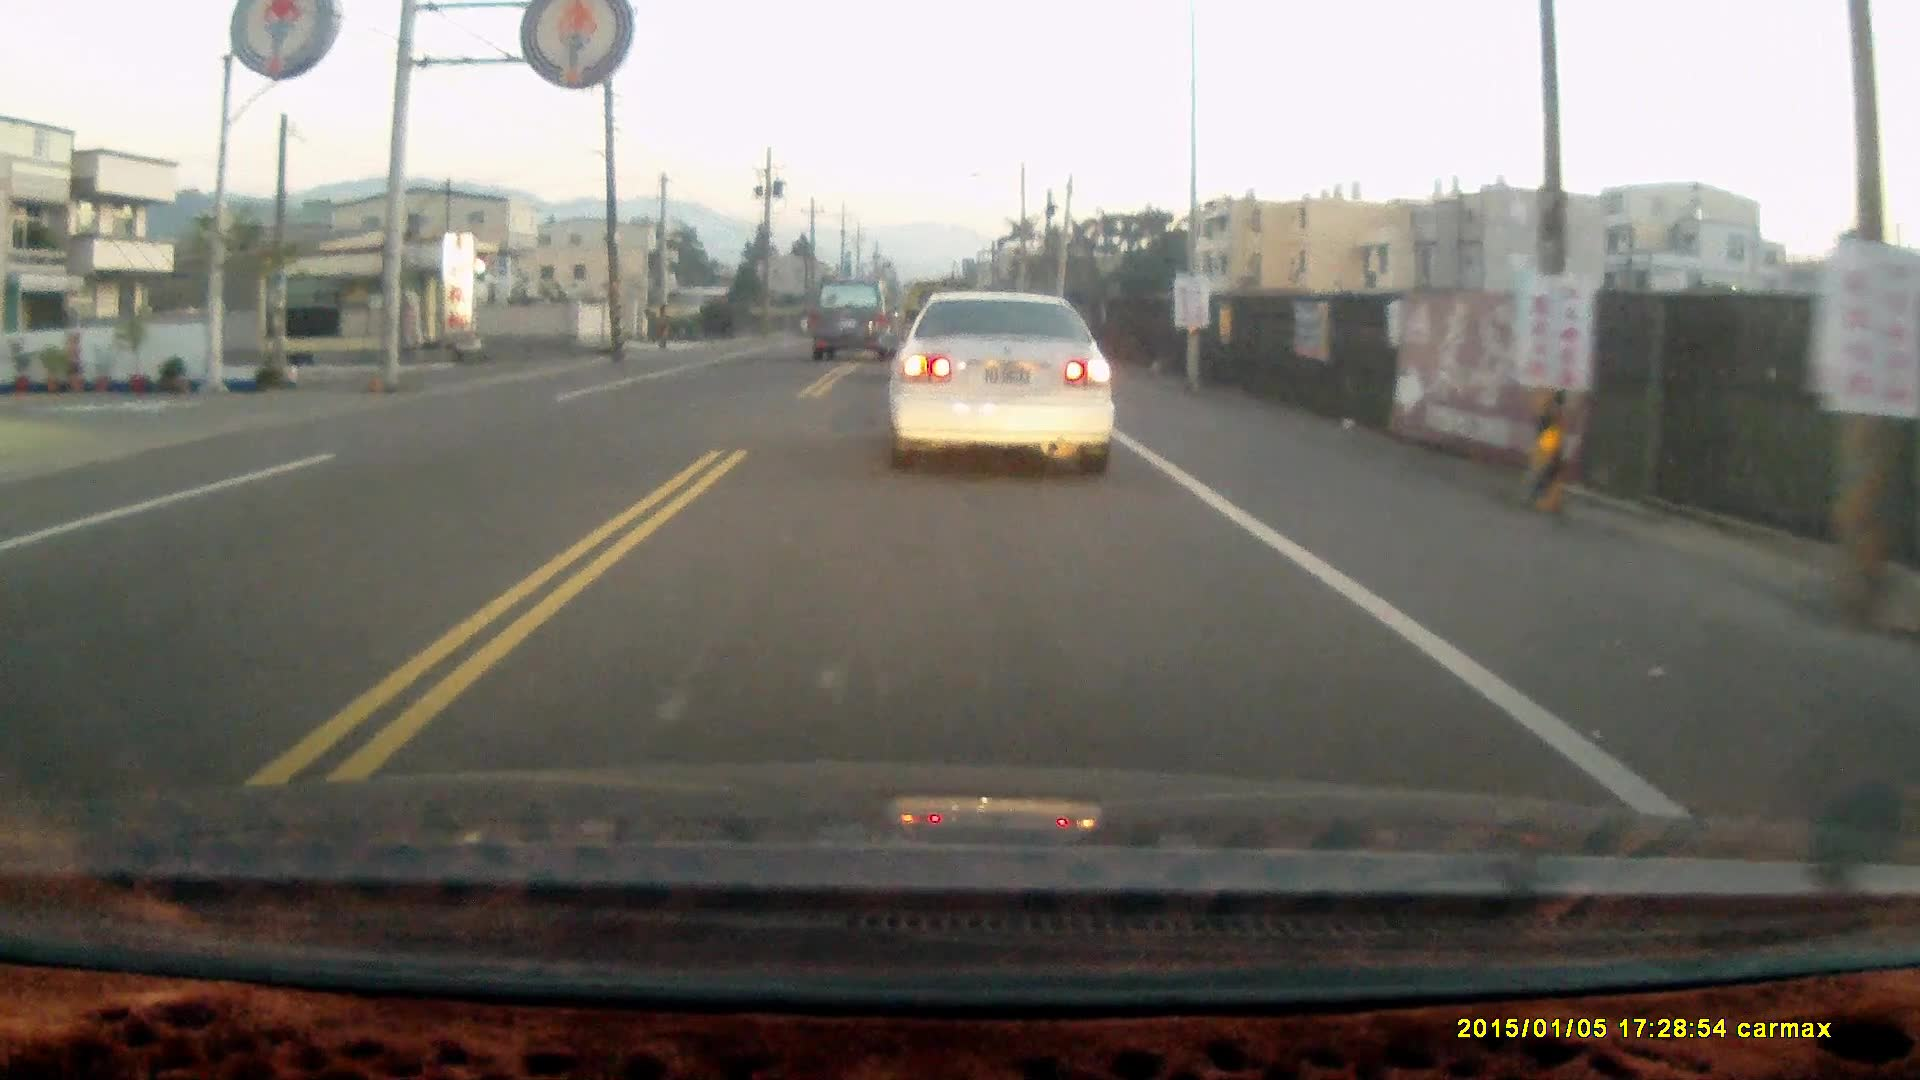vehicle: (885, 291, 1127, 481), (808, 274, 899, 365)
